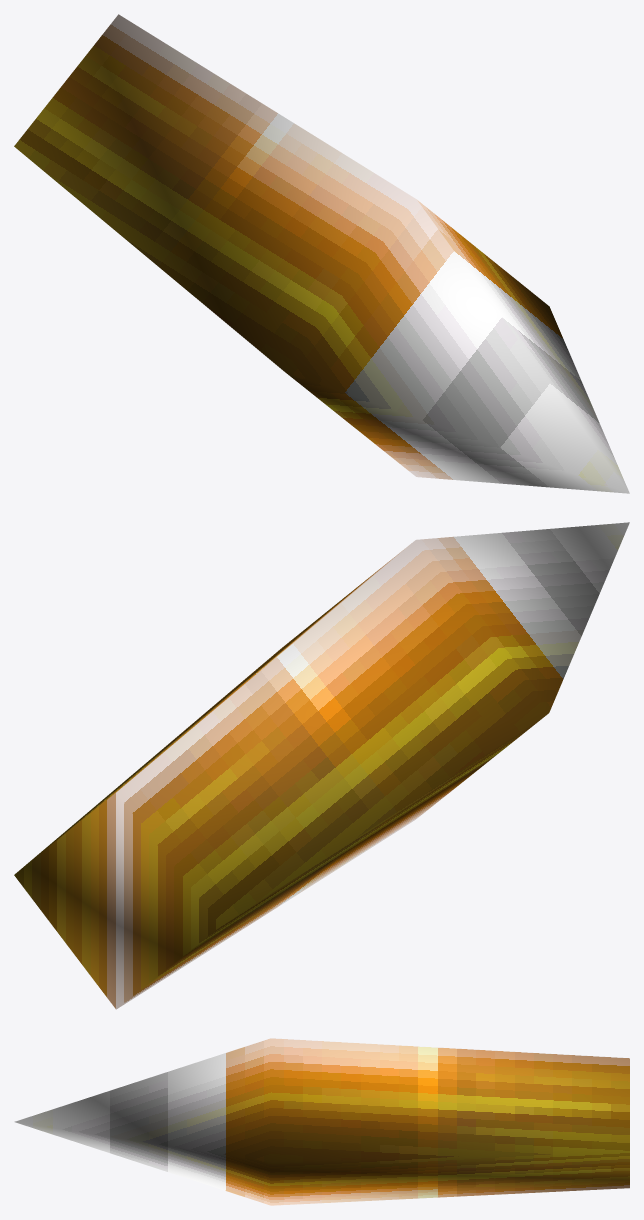
3 views of the same model, one above another, from view 1: azimuth 30°, elevation 25°; view 2: azimuth 150°, elevation 25°; view 3: azimuth 270°, elevation 25° (orthographic). The views are drawn at different scales.
Visible parts, largest first — view 1: fdaa5485; view 2: fdaa5485; view 3: fdaa5485.
Part boxes in pixels (left/top/right/bottom): fdaa5485: left=14, top=14, right=629, bottom=493; fdaa5485: left=14, top=522, right=629, bottom=1009; fdaa5485: left=14, top=1038, right=629, bottom=1205.
Size of the model in its own units: 2.24 by 2.24 by 7.46.
Materials: 1 (1 with a texture image).
